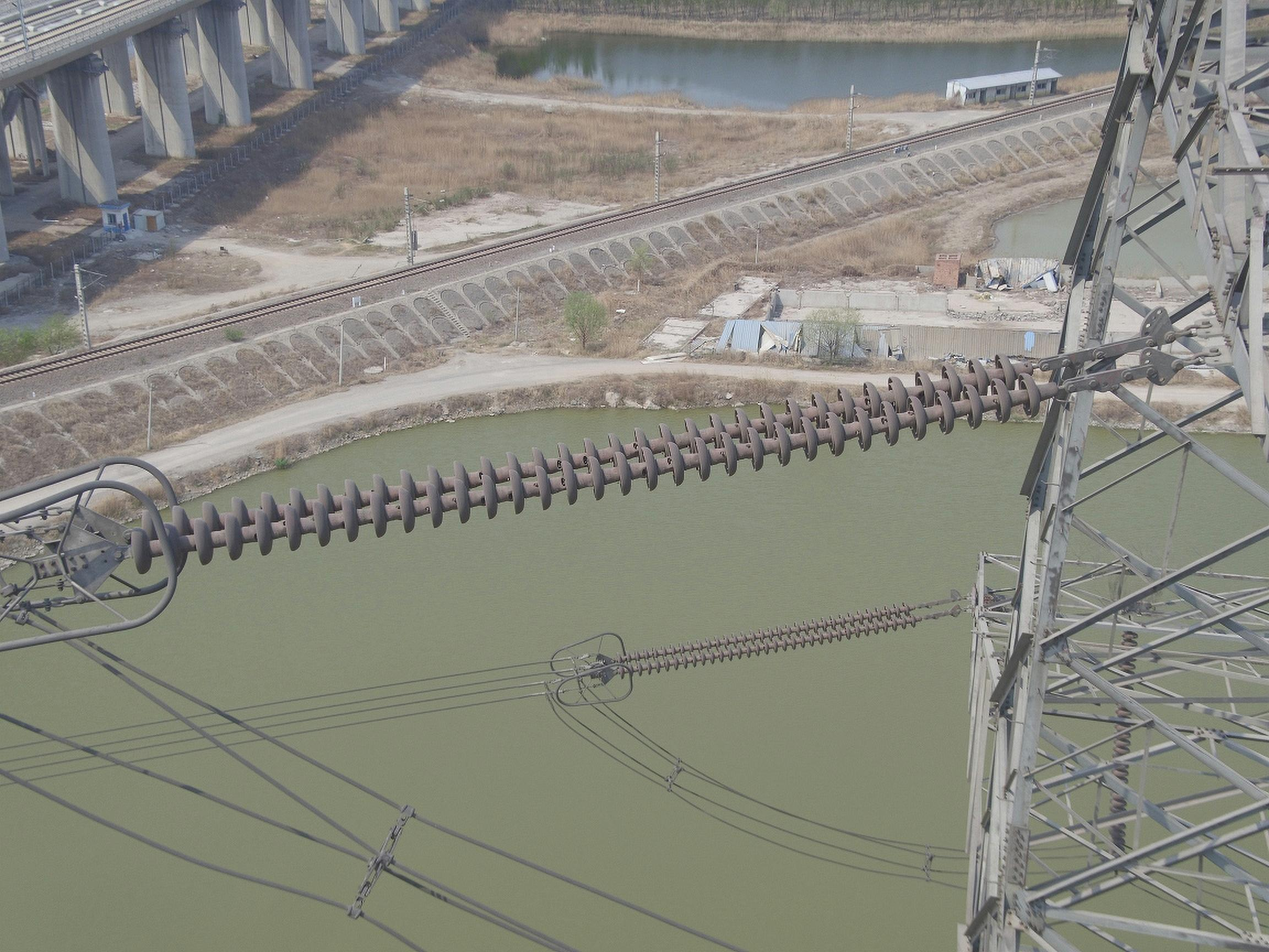insulator: (126, 350, 1043, 578), (614, 600, 918, 681), (1107, 629, 1140, 861)
